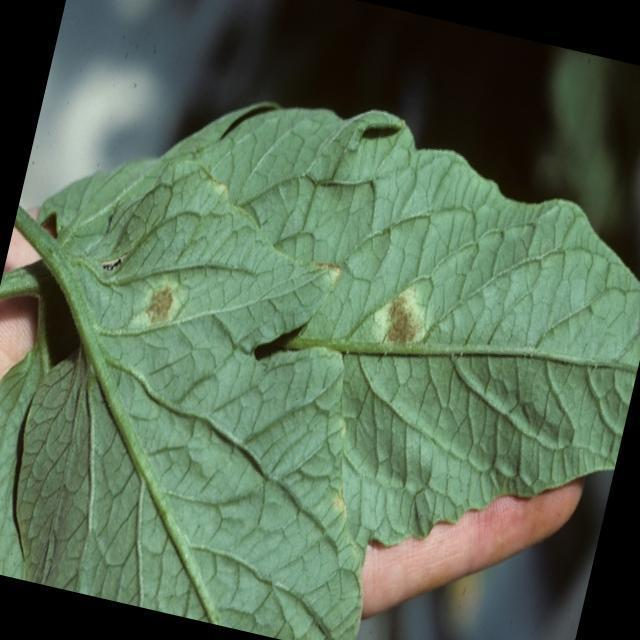Mosaic Virus: (341, 237, 467, 371), (118, 248, 205, 352)
